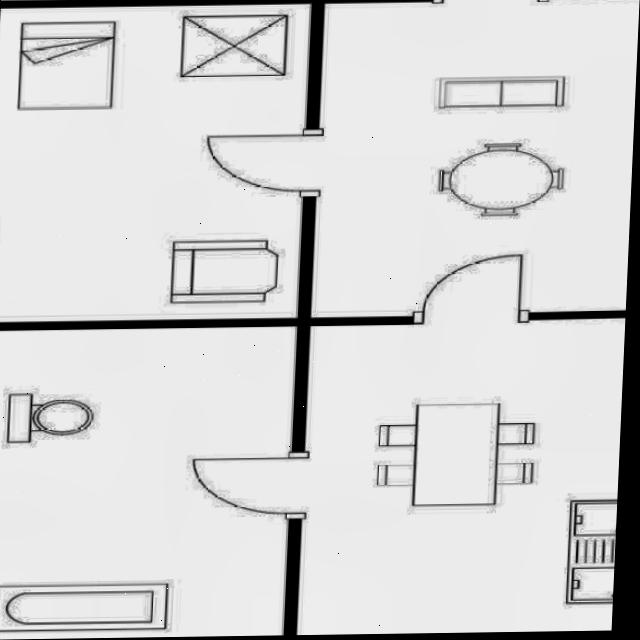room: (290, 321, 630, 635), (310, 0, 640, 318), (0, 4, 310, 323), (0, 326, 296, 640)
